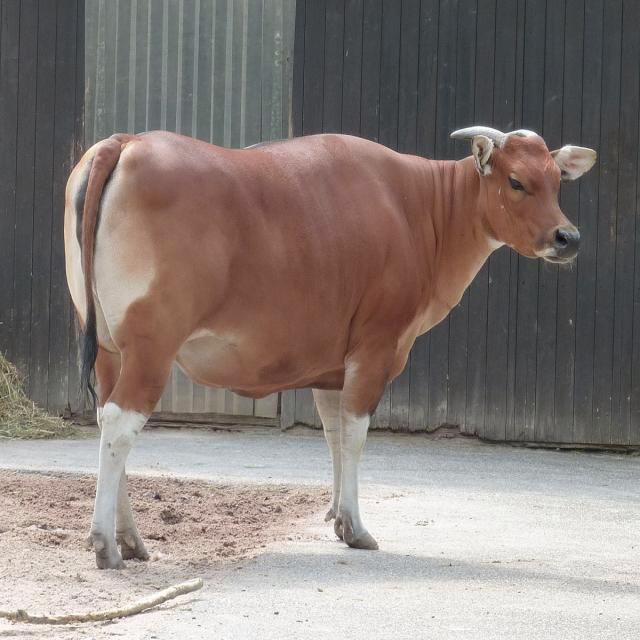cow: (65, 128, 595, 568)
